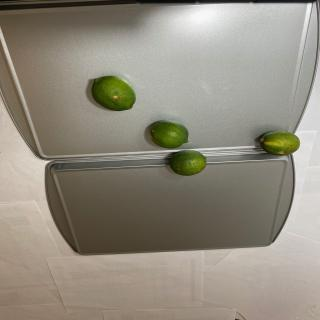Apple: (260, 130, 300, 156), (170, 150, 207, 176)
Lemon: (91, 75, 136, 111), (149, 120, 189, 148)
